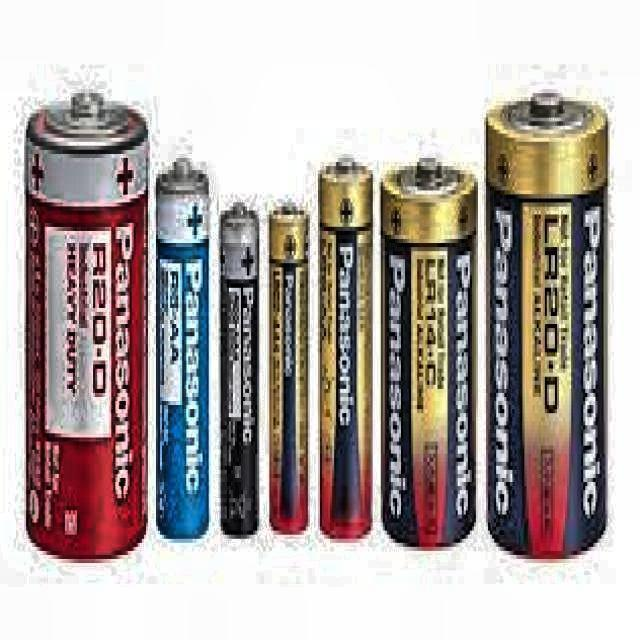battery: (485, 90, 608, 559), (28, 93, 148, 555), (380, 158, 477, 550), (317, 158, 373, 541), (156, 158, 209, 541), (220, 201, 260, 535), (269, 205, 309, 534)
